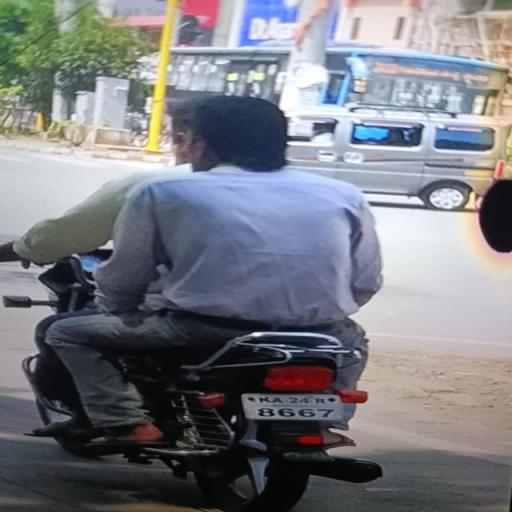bike: (7, 86, 406, 512)
numberplate: (242, 392, 346, 422)
withouthelmet: (193, 99, 285, 169)
